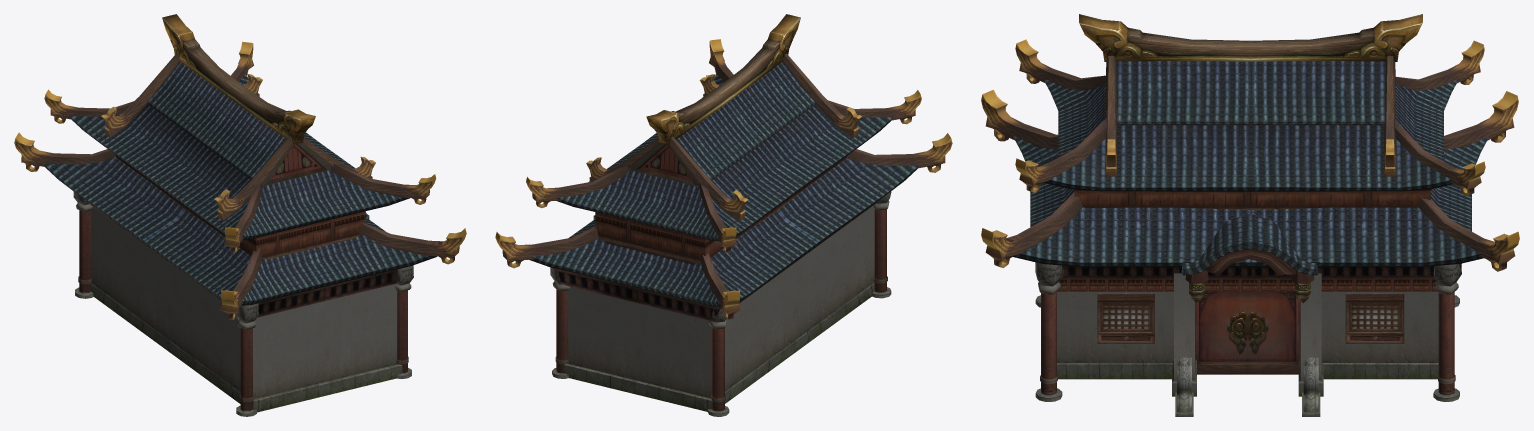
The model's file is jz_fang01_54_03_7172out.fbx.
3 renders of one model, left to right at view 1: azimuth 30°, elevation 25°; view 2: azimuth 150°, elevation 25°; view 3: azimuth 270°, elevation 25°, orthographic. The views are drawn at different scales.
Visible parts, largest first — view 1: jz_fang01; view 2: jz_fang01; view 3: jz_fang01.
Boxes of the visible parts, x1,y1,x2,y2 form: jz_fang01: (14,14,466,416); jz_fang01: (495,14,952,416); jz_fang01: (981,14,1519,416).
Bounding box in the file's own units: 9.9 × 10.31 × 15.26.
